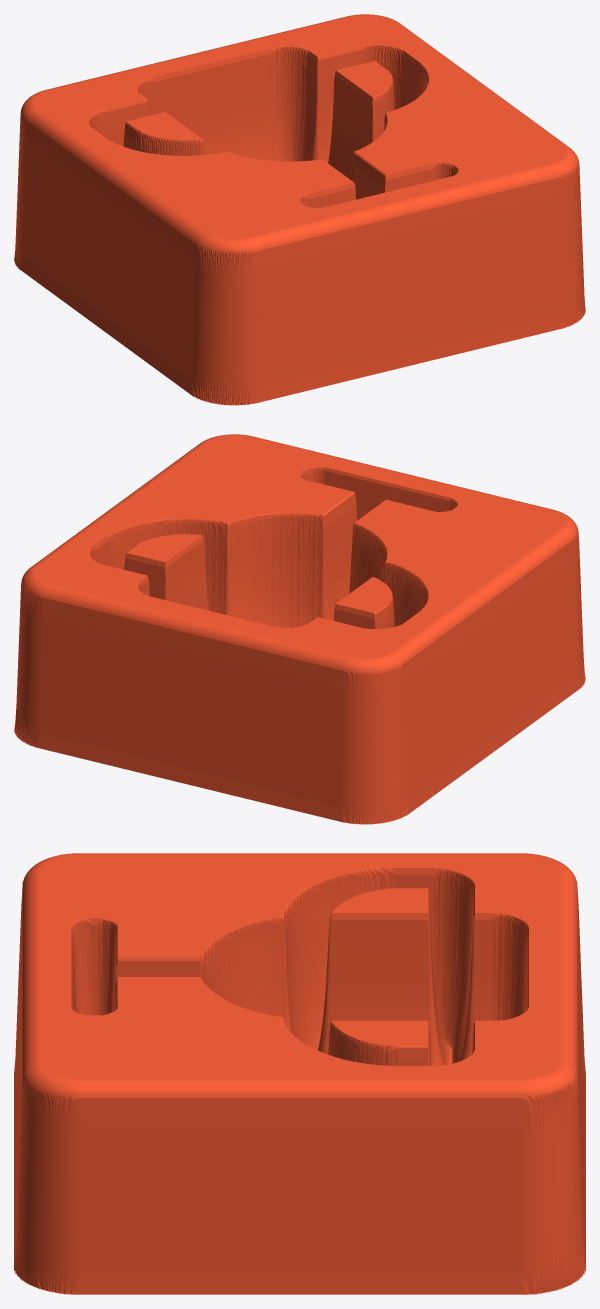
File: mold.glb
3 renders of one model, top to bottom at view 1: azimuth 30°, elevation 25°; view 2: azimuth 150°, elevation 25°; view 3: azimuth 270°, elevation 25°, orthographic. The views are drawn at different scales.
Parts seen in each view (by area): view 1: geometry_0; view 2: geometry_0; view 3: geometry_0.
Boxes of the visible parts, x1,y1,x2,y2 form: geometry_0: (14, 14, 585, 405); geometry_0: (14, 434, 585, 824); geometry_0: (14, 853, 585, 1294).
Bounding box in the file's own units: 0.0798 × 0.031 × 0.0784.
